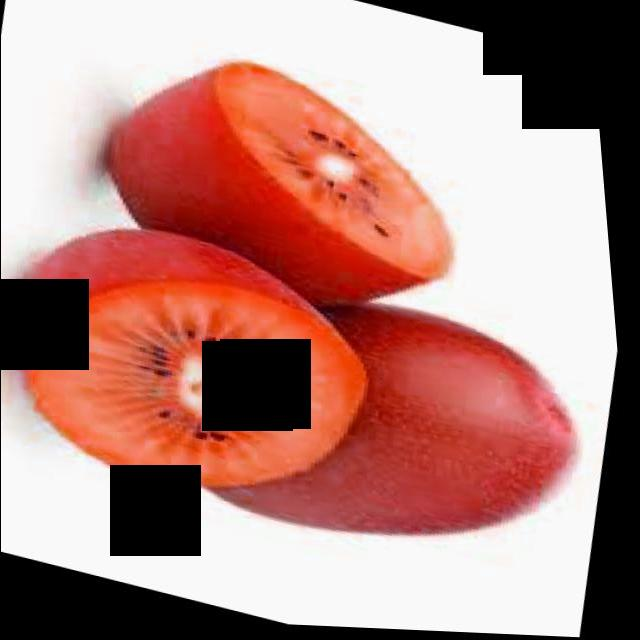kiwi: (202, 270, 620, 603)
